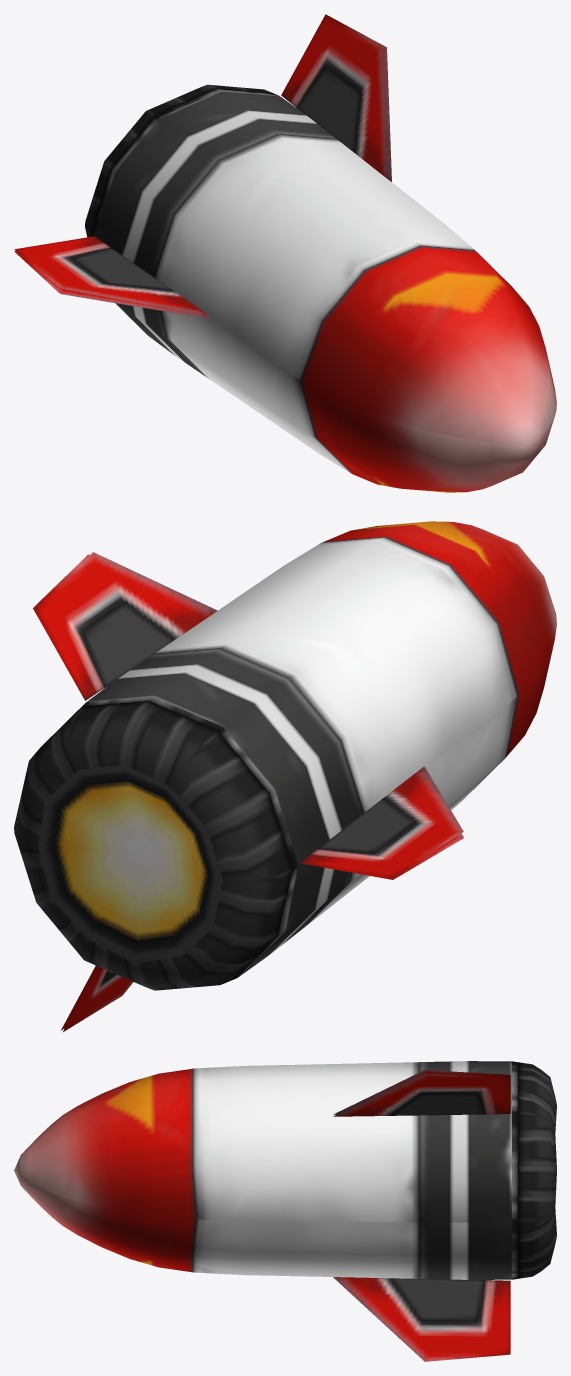
Rendered from bullet1.fbx.
The picture shows the model from 3 angles, top to bottom: view 1: azimuth 30°, elevation 25°; view 2: azimuth 150°, elevation 25°; view 3: azimuth 270°, elevation 25°; orthographic projection. The views are drawn at different scales.
Visible parts, largest first — view 1: bullet1; view 2: bullet1; view 3: bullet1.
Part boxes in pixels (x1=…): bullet1: x1=14, y1=14, x2=556, y2=492; bullet1: x1=14, y1=521, x2=556, y2=1031; bullet1: x1=14, y1=1061, x2=556, y2=1361.
Size of the model in its own units: 39.14 by 43.4 by 70.77.
